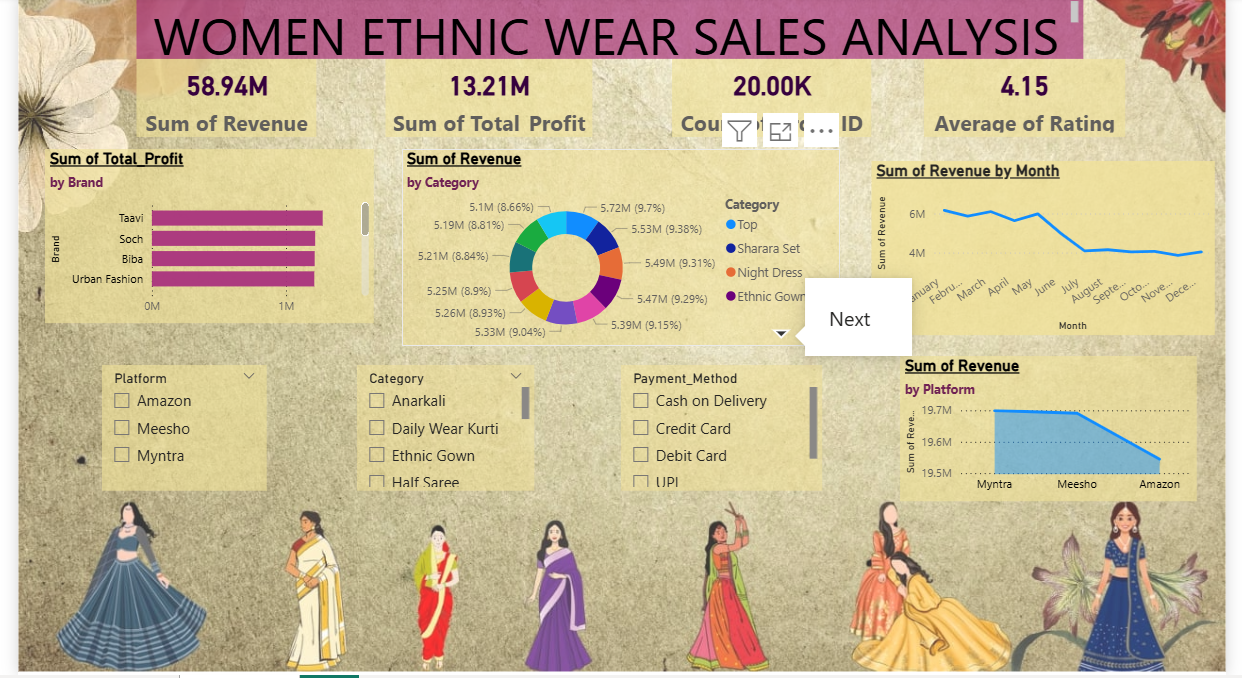

This screenshot's page, from the dashboard's own definition file:
{"tool":"powerbi","page":{"name":"Page 9","canvas":[1280,720],"ordinal":8},"visuals":[{"type":"ScrollingTextVisual1448795304508","fields":{"Category":["Sheet1.Category"],"Measure Absolute":["Sum(Sheet1.Total_Profit)"]},"box":[0,524.9,1280.4,49.3],"z":0},{"type":"textbox","box":[1.9,0,1277.5,66.1],"z":1000},{"type":"card","fields":{"Values":["Sum(Sheet1.Revenue)"]},"box":[0,71.6,332.4,82.7],"z":2000},{"type":"card","fields":{"Values":["Sum(Sheet1.Total_Profit)"]},"box":[332.4,71.6,346.8,82.7],"z":3000},{"type":"card","fields":{"Values":["CountNonNull(Sheet1.Order_ID)"]},"box":[669.6,71.6,289.5,82.7],"z":4000},{"type":"card","fields":{"Values":["Avg(Sheet1.Rating)"]},"box":[959.1,71.6,321.3,82.7],"z":5000},{"type":"barChart","fields":{"Category":["Sheet1.Platform"],"Y":["Sum(Sheet1.Revenue)"]},"box":[0,154.3,299,224.3],"z":6000},{"type":"donutChart","fields":{"Category":["Sheet1.Category"],"Y":["Sum(Sheet1.Revenue)"]},"box":[340.4,155.9,520.1,224.3],"z":7000},{"type":"clusteredBarChart","fields":{"Category":["Sheet1.Brand"],"Y":["Sum(Sheet1.Total_Profit)"]},"box":[898.7,155.9,370.6,224.3],"z":8000},{"type":"lineChart","fields":{"Category":["Sheet1.Order_Date.Variation.Date Hierarchy.Month"],"Y":["Sum(Sheet1.Revenue)"]},"box":[0,397.7,580.6,152.7],"z":9000},{"type":"slicer","fields":{"Values":["Sheet1.Platform"]},"box":[640.6,396.9,164.4,153.1],"z":10000},{"type":"slicer","fields":{"Values":["Sheet1.Category"]},"box":[837.2,396.9,187.1,153.1],"z":11000},{"type":"slicer","fields":{"Values":["Sheet1.Payment_Method"]},"box":[1058.3,396.9,221.1,153.1],"z":12000}]}

Visuals, with their boxes on the page's 1280x720 design canvas (x1, y1, x2, y2). These are canvas units, not pixel positions in the 1242x678 screenshot, which may show the page scaled, cropped or inside an application window:
ScrollingTextVisual1448795304508 - Sheet1.Category x Sum(Sheet1.Total_Profit): [0, 525, 1280, 574]
textbox: [2, 0, 1279, 66]
card - Sum(Sheet1.Revenue): [0, 72, 332, 154]
card - Sum(Sheet1.Total_Profit): [332, 72, 679, 154]
card - CountNonNull(Sheet1.Order_ID): [670, 72, 959, 154]
card - Avg(Sheet1.Rating): [959, 72, 1280, 154]
barChart - Sheet1.Platform x Sum(Sheet1.Revenue): [0, 154, 299, 379]
donutChart - Sheet1.Category x Sum(Sheet1.Revenue): [340, 156, 860, 380]
clusteredBarChart - Sheet1.Brand x Sum(Sheet1.Total_Profit): [899, 156, 1269, 380]
lineChart - Sheet1.Order_Date.Variation.Date Hierarchy.Month x Sum(Sheet1.Revenue): [0, 398, 581, 550]
slicer - Sheet1.Platform: [641, 397, 805, 550]
slicer - Sheet1.Category: [837, 397, 1024, 550]
slicer - Sheet1.Payment_Method: [1058, 397, 1279, 550]
